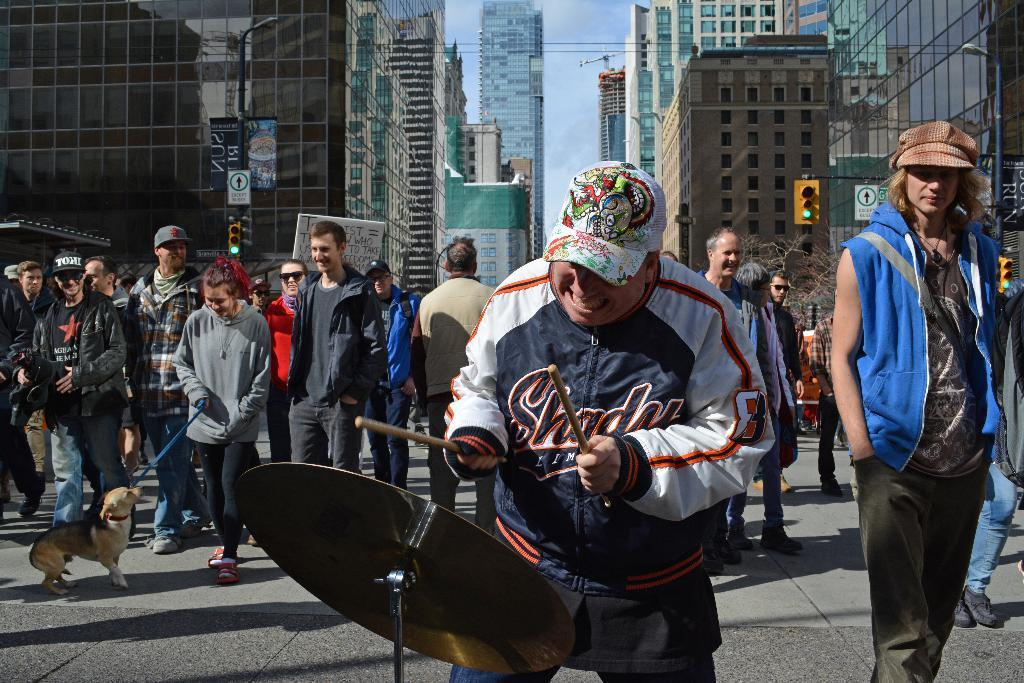Hat: (542, 154, 666, 284), (888, 120, 980, 167), (152, 225, 194, 249), (45, 251, 85, 274)
